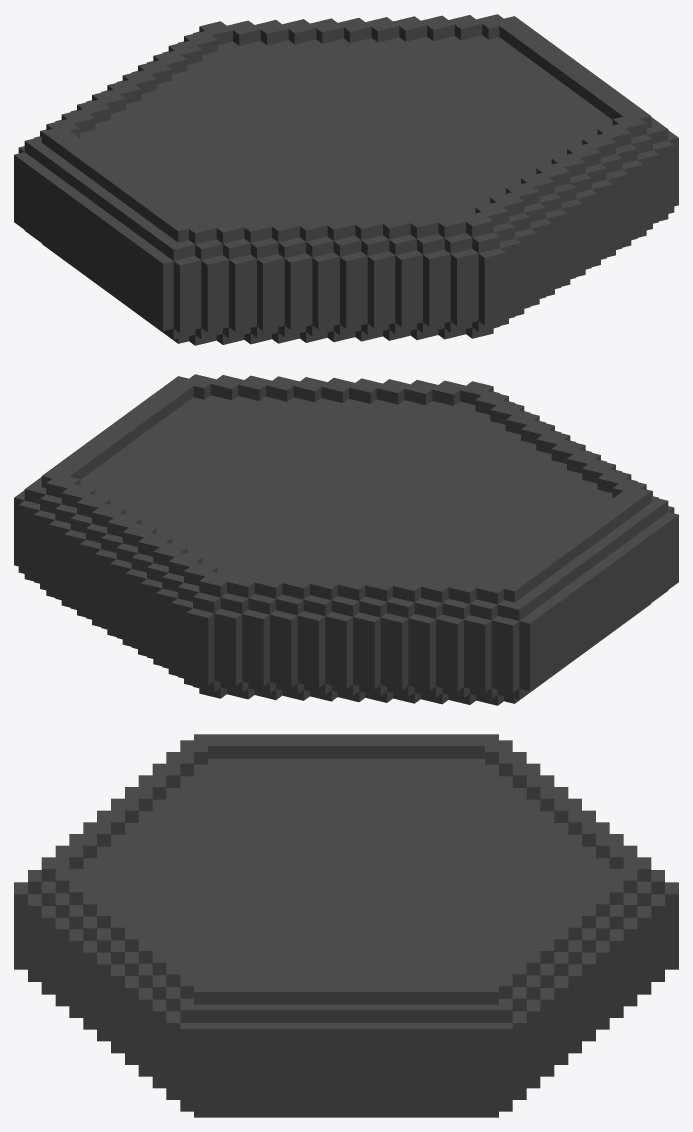
The model's file is hex_model_base.obj.
The picture shows the model from 3 angles, top to bottom: view 1: azimuth 30°, elevation 25°; view 2: azimuth 150°, elevation 25°; view 3: azimuth 270°, elevation 25°; orthographic projection. The views are drawn at different scales.
Bounding box in the file's own units: 4.8 × 1 × 4.8.
Materials: 1 (1 with a texture image).
